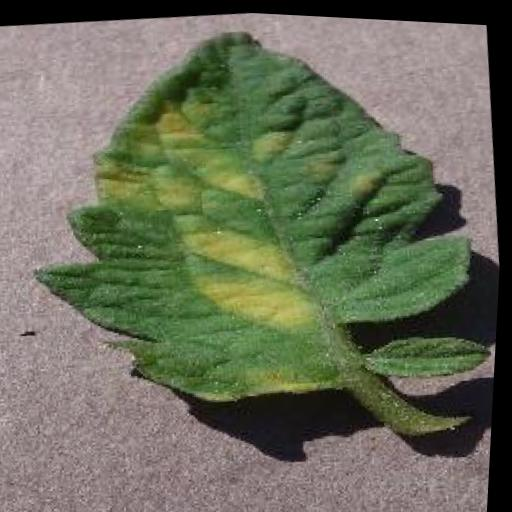Leaf Mold: (4, 1, 494, 430)
